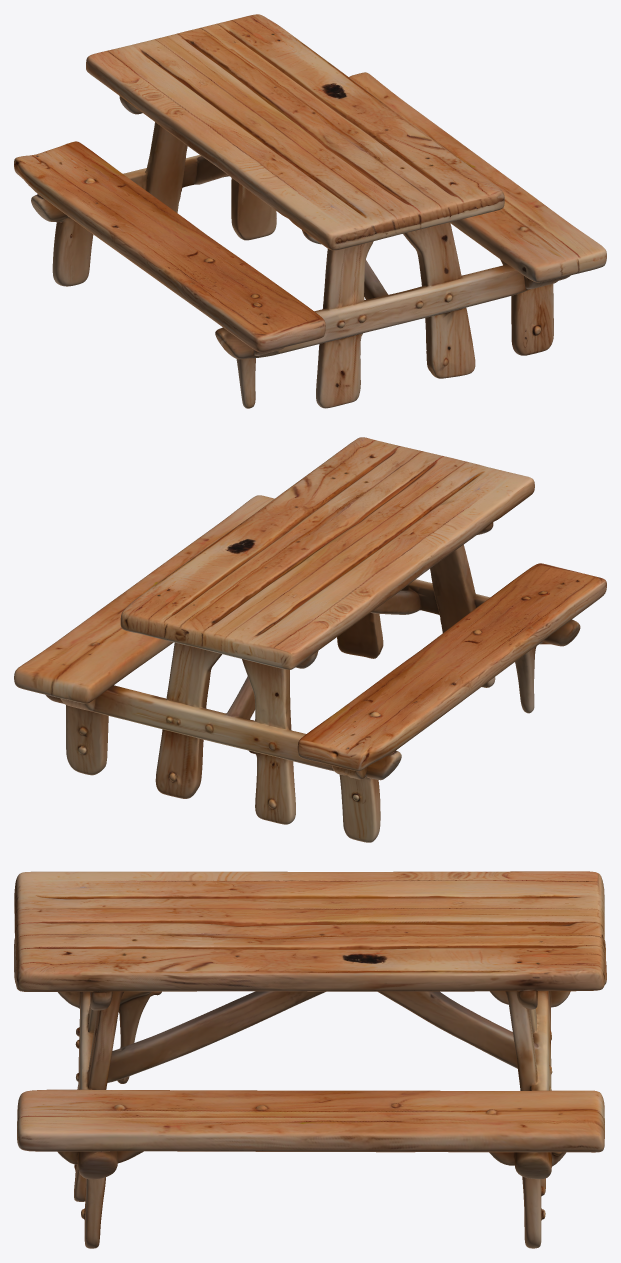
Rendered from prop-picnic-table.glb.
3 renders of one model, top to bottom at view 1: azimuth 30°, elevation 25°; view 2: azimuth 150°, elevation 25°; view 3: azimuth 270°, elevation 25°, orthographic. The views are drawn at different scales.
Visible parts, largest first — view 1: tripo_node_fb984b6d-10ae-4130-8508-128ac959f62c; view 2: tripo_node_fb984b6d-10ae-4130-8508-128ac959f62c; view 3: tripo_node_fb984b6d-10ae-4130-8508-128ac959f62c.
Boxes of the visible parts, left/top/right/bottom form: tripo_node_fb984b6d-10ae-4130-8508-128ac959f62c: left=14, top=14, right=606, bottom=408; tripo_node_fb984b6d-10ae-4130-8508-128ac959f62c: left=14, top=437, right=606, bottom=842; tripo_node_fb984b6d-10ae-4130-8508-128ac959f62c: left=14, top=871, right=606, bottom=1248.
Size of the model in its own units: 2.84 by 1.5 by 3.39.
Materials: 1 (1 with a texture image).
